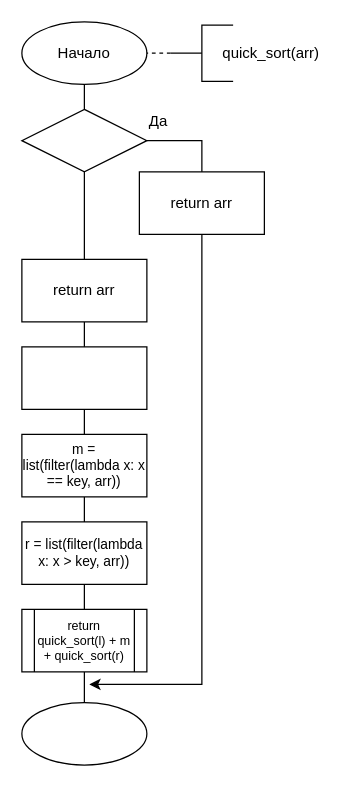
This 349x788 diagram has some shape labels left out. Here are the shapes that lost their labels. From the top down, the centre of each, then its label:
point (84, 140): len(arr) <= 1
point (84, 377): l = list(filter(lambda x: x < key, arr))
point (84, 733): Конец
